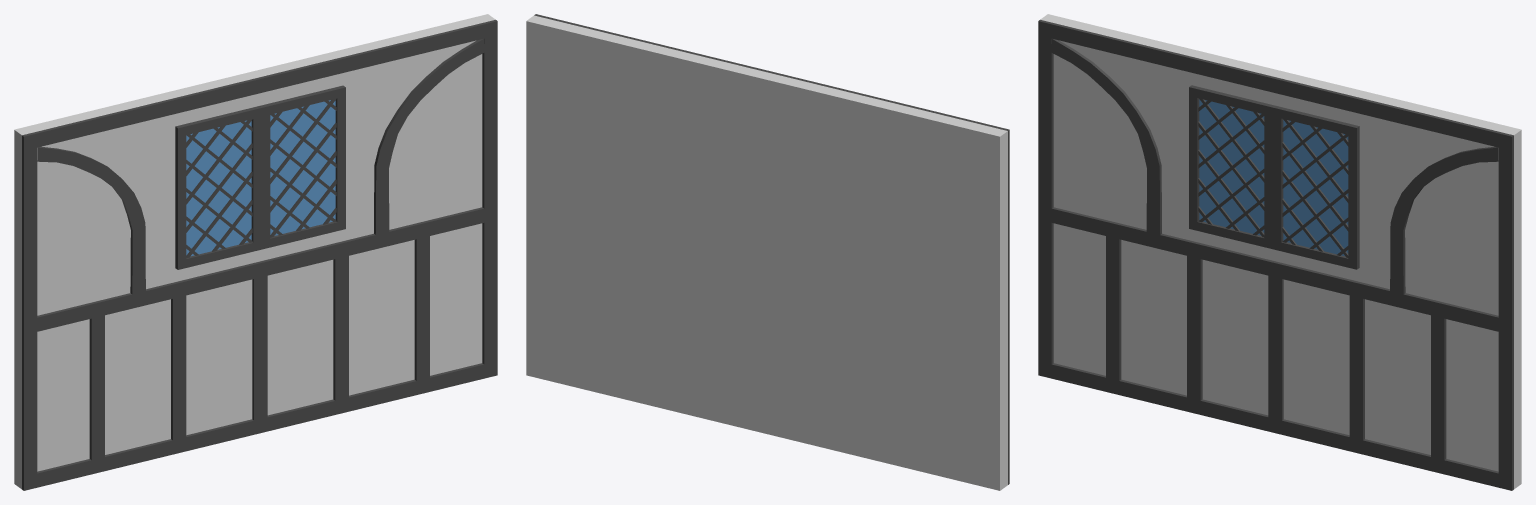
The model's file is Wall-With-CurvedPatern-And-Window.fbx.
The picture shows the model from 3 angles, left to right: view 1: azimuth 30°, elevation 25°; view 2: azimuth 150°, elevation 25°; view 3: azimuth 330°, elevation 25°; orthographic projection.
Parts seen in each view (by area): view 1: pasted__group7_pasted__group4_pasted__pasted__group1_pasted_; view 2: pasted__group7_pasted__group4_pasted__pasted__group1_pasted_; view 3: pasted__group7_pasted__group4_pasted__pasted__group1_pasted_.
Boxes of the visible parts, left/top/right/bottom form: pasted__group7_pasted__group4_pasted__pasted__group1_pasted_: left=14, top=14, right=497, bottom=490; pasted__group7_pasted__group4_pasted__pasted__group1_pasted_: left=526, top=14, right=1009, bottom=490; pasted__group7_pasted__group4_pasted__pasted__group1_pasted_: left=1038, top=14, right=1521, bottom=490.
Size of the model in its own units: 350 by 250 by 14.52.
